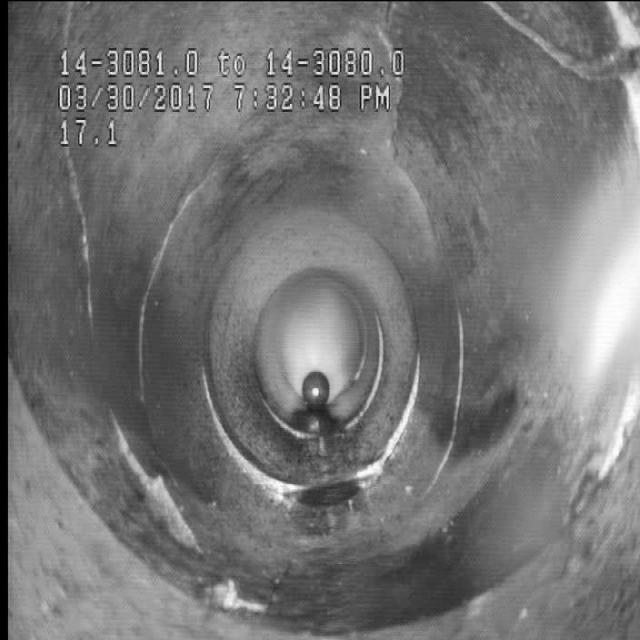Crack: (58, 178, 124, 386), (503, 6, 620, 104)
